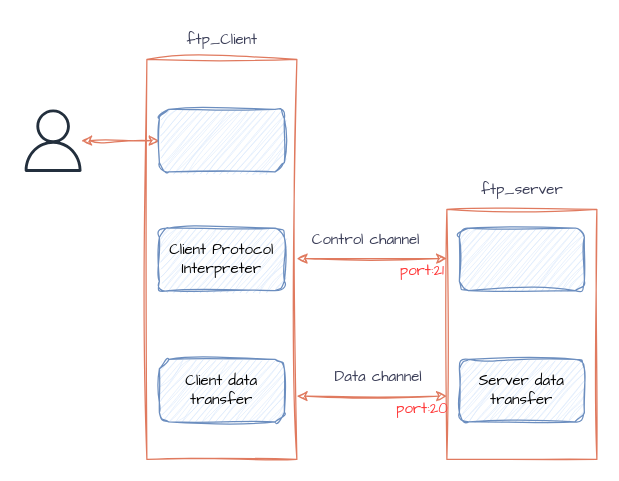
This 619x481 diagram has some shape labels left out. The centre of each missing label's shape, as x and y in pixels:
Server Protocol Interpreter: the point at 521,259
User Interfaces: the point at 221,140
